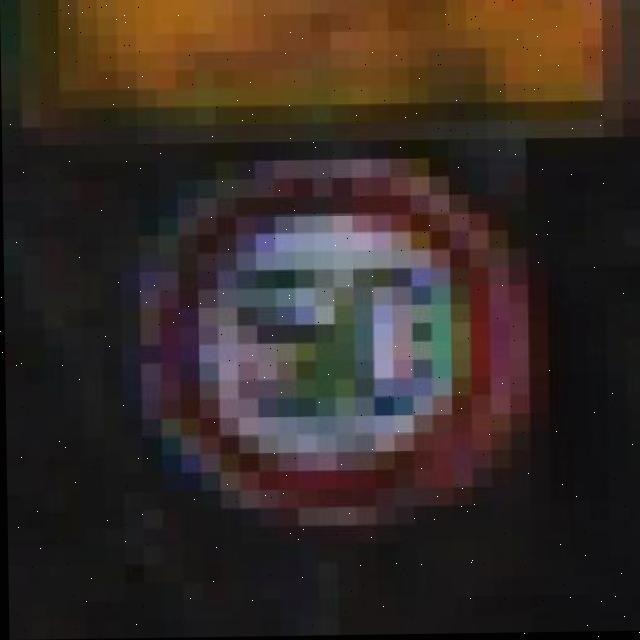Speed limit 50: (124, 145, 546, 535)
